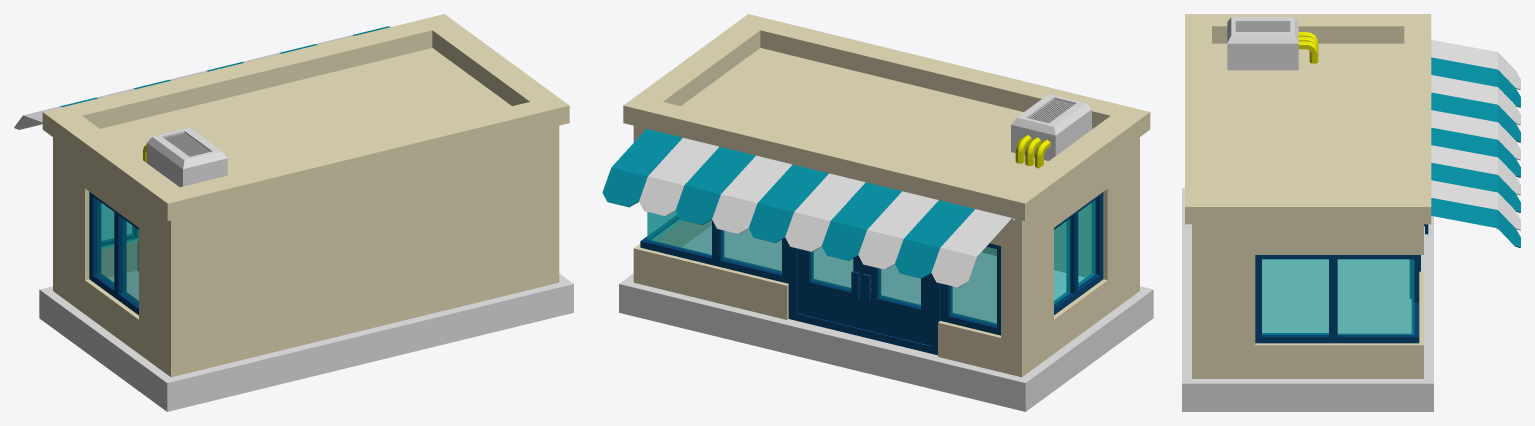
File: cry_shop_02_dylan.fbx
3 renders of one model, left to right at view 1: azimuth 30°, elevation 25°; view 2: azimuth 150°, elevation 25°; view 3: azimuth 270°, elevation 25°, orthographic.
Visible parts, largest first — view 1: pTorus4; view 2: pTorus4; view 3: pTorus4.
Boxes of the visible parts, x1,y1,x2,y2 form: pTorus4: (14,14,573,411); pTorus4: (602,14,1153,411); pTorus4: (1182,14,1520,411).
Size of the model in its own units: 936 by 491 by 686.
